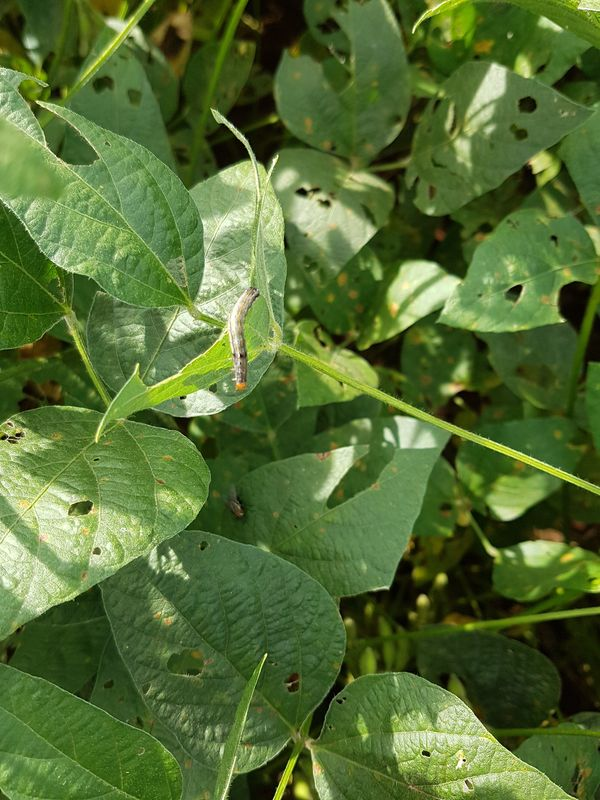Spodoptera_albula: (212, 281, 270, 397)
